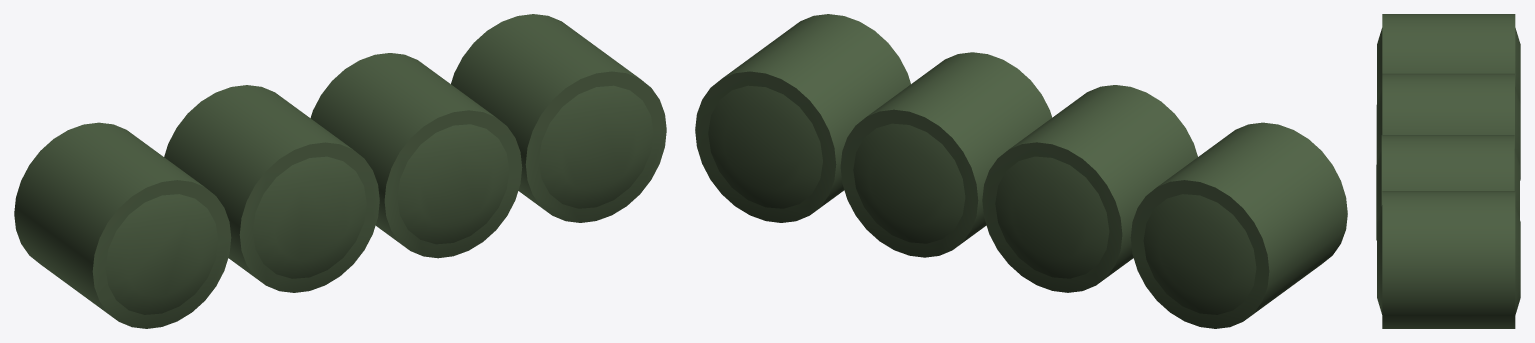
File: round_bales_green.glb
3 views of the same model, side by side, from view 1: azimuth 30°, elevation 25°; view 2: azimuth 150°, elevation 25°; view 3: azimuth 270°, elevation 25° (orthographic). The views are drawn at different scales.
Parts seen in each view (by area): view 1: round_bales_green_LOD0; view 2: round_bales_green_LOD0; view 3: round_bales_green_LOD0.
Boxes of the visible parts, x1,y1,x2,y2 form: round_bales_green_LOD0: (14, 14, 666, 328); round_bales_green_LOD0: (695, 14, 1347, 328); round_bales_green_LOD0: (1376, 14, 1520, 328).
Size of what is drawn, in the model's own units: 5.07 by 1.24 by 1.3.
